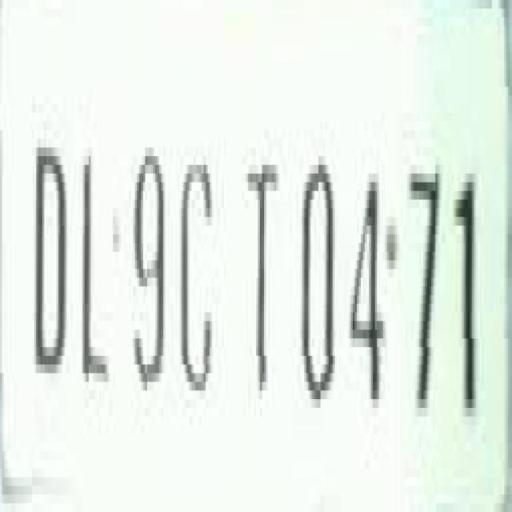number plate: (0, 9, 486, 512)
